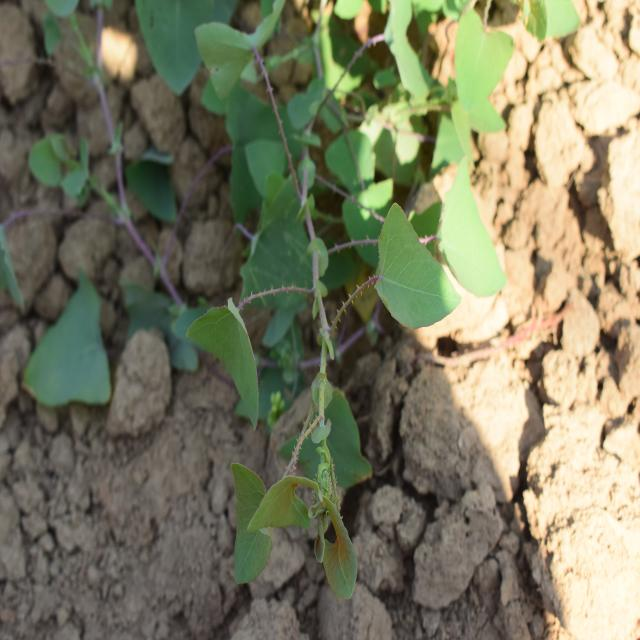Asiatic_Smartweed: (200, 284, 366, 584), (339, 116, 503, 327), (187, 3, 292, 240)
